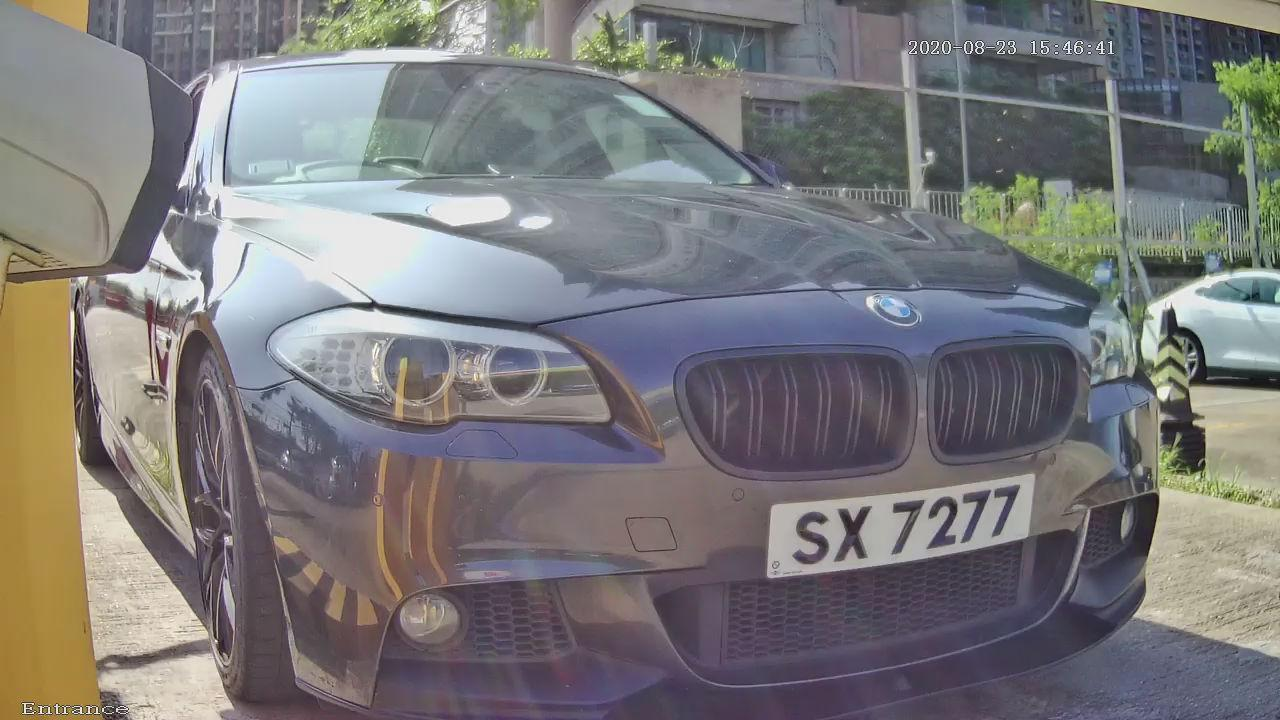License Plate: (724, 446, 1068, 625)
